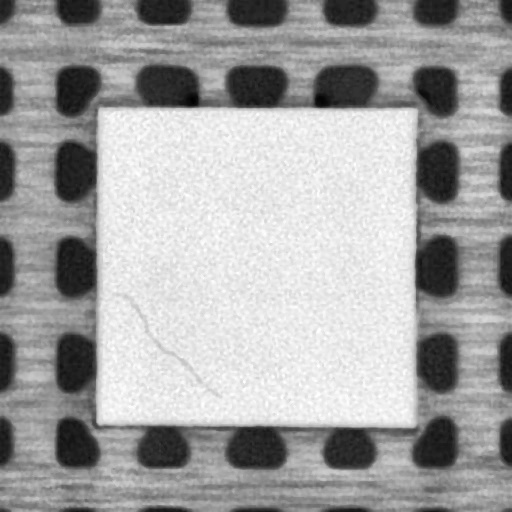DIE_CRACK: (112, 290, 220, 398)
